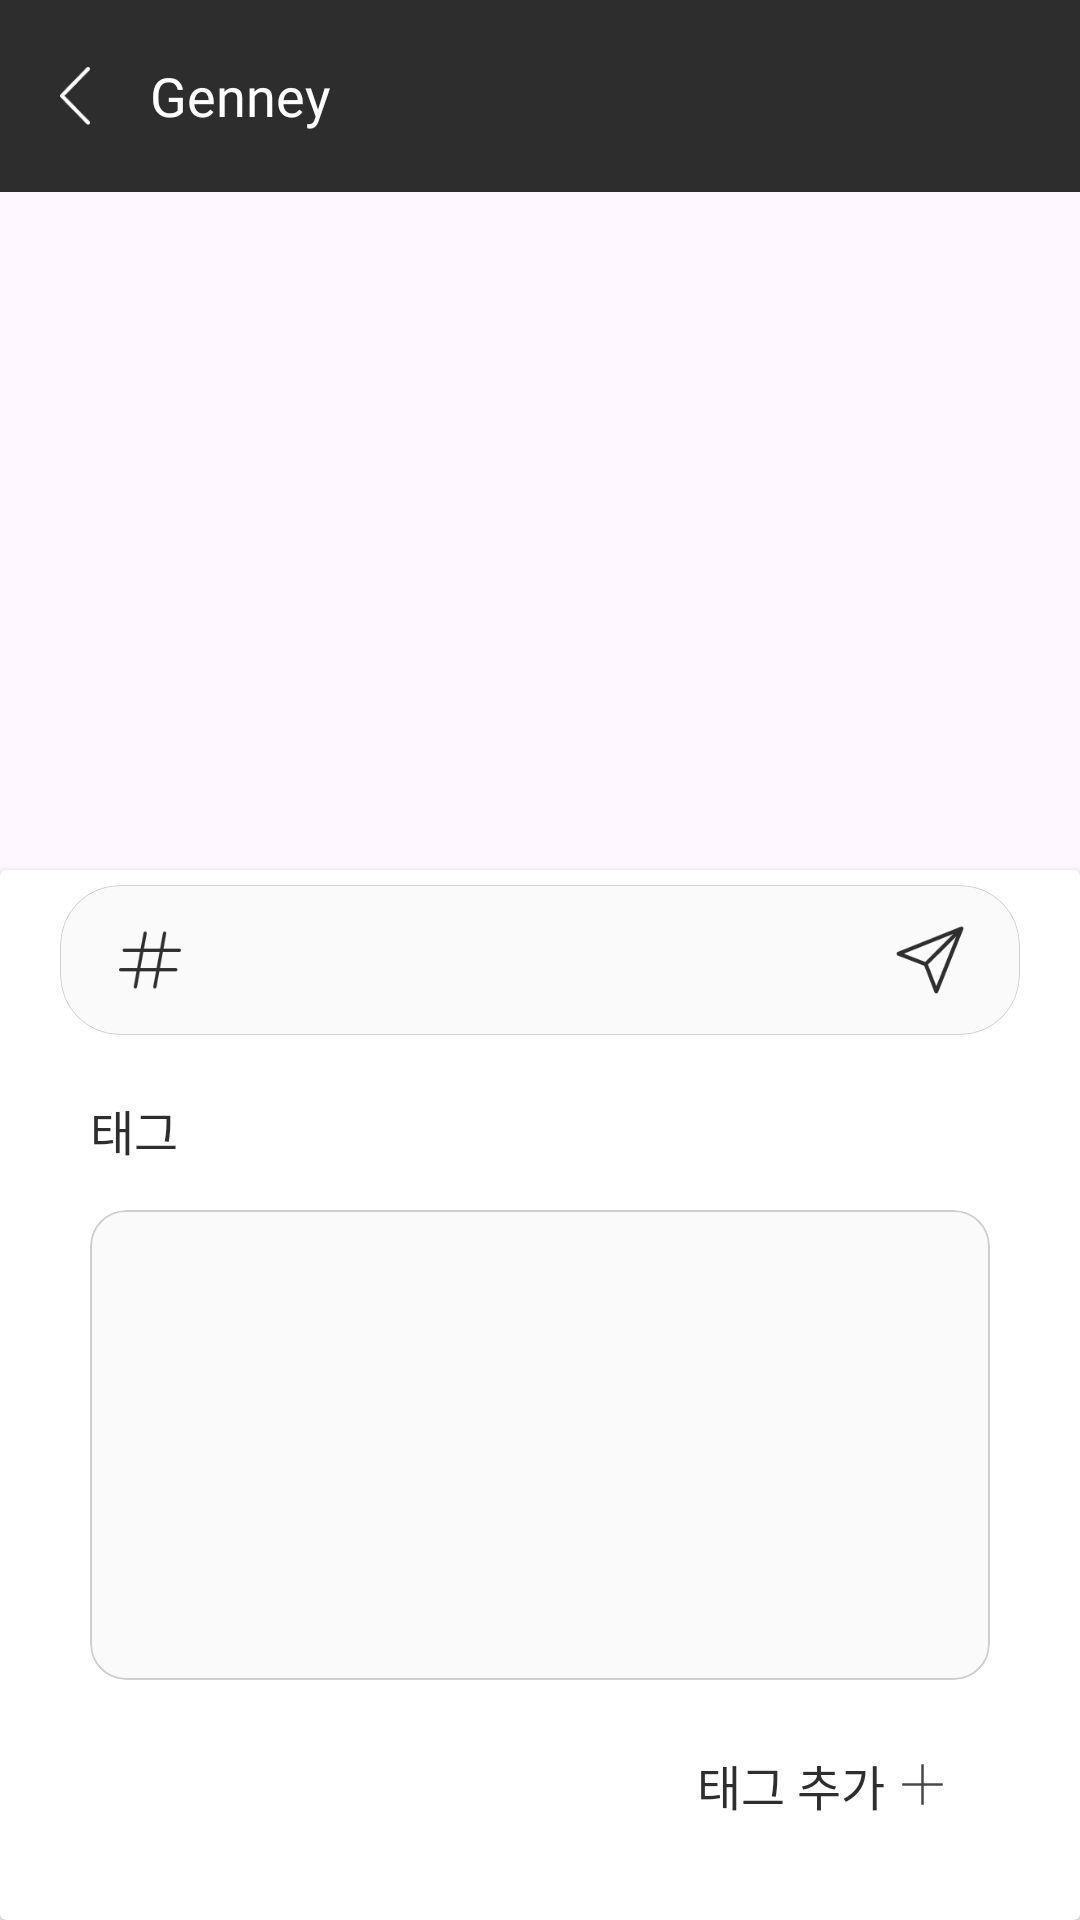

Where to tap for icons on this 1080x1920 app screen, as (x=x, y=y):
add: (x=922, y=1784)
back: (x=75, y=96)
send: (x=950, y=960)
tag: (x=128, y=960)
